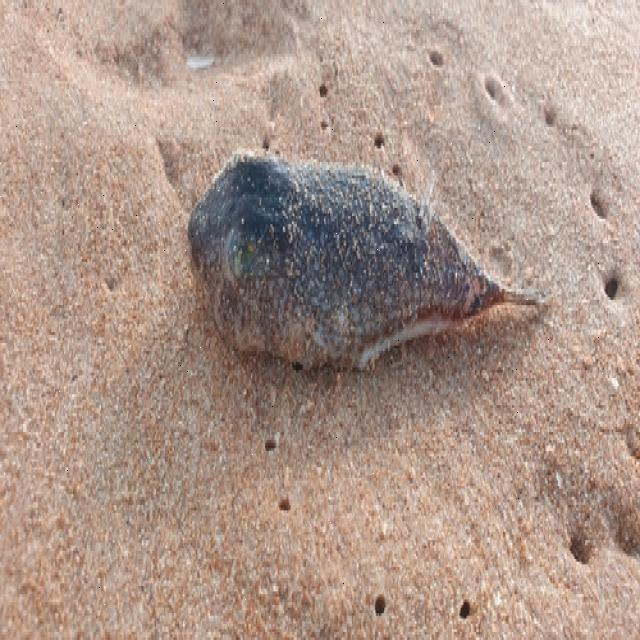Balik: (189, 157, 538, 367)
